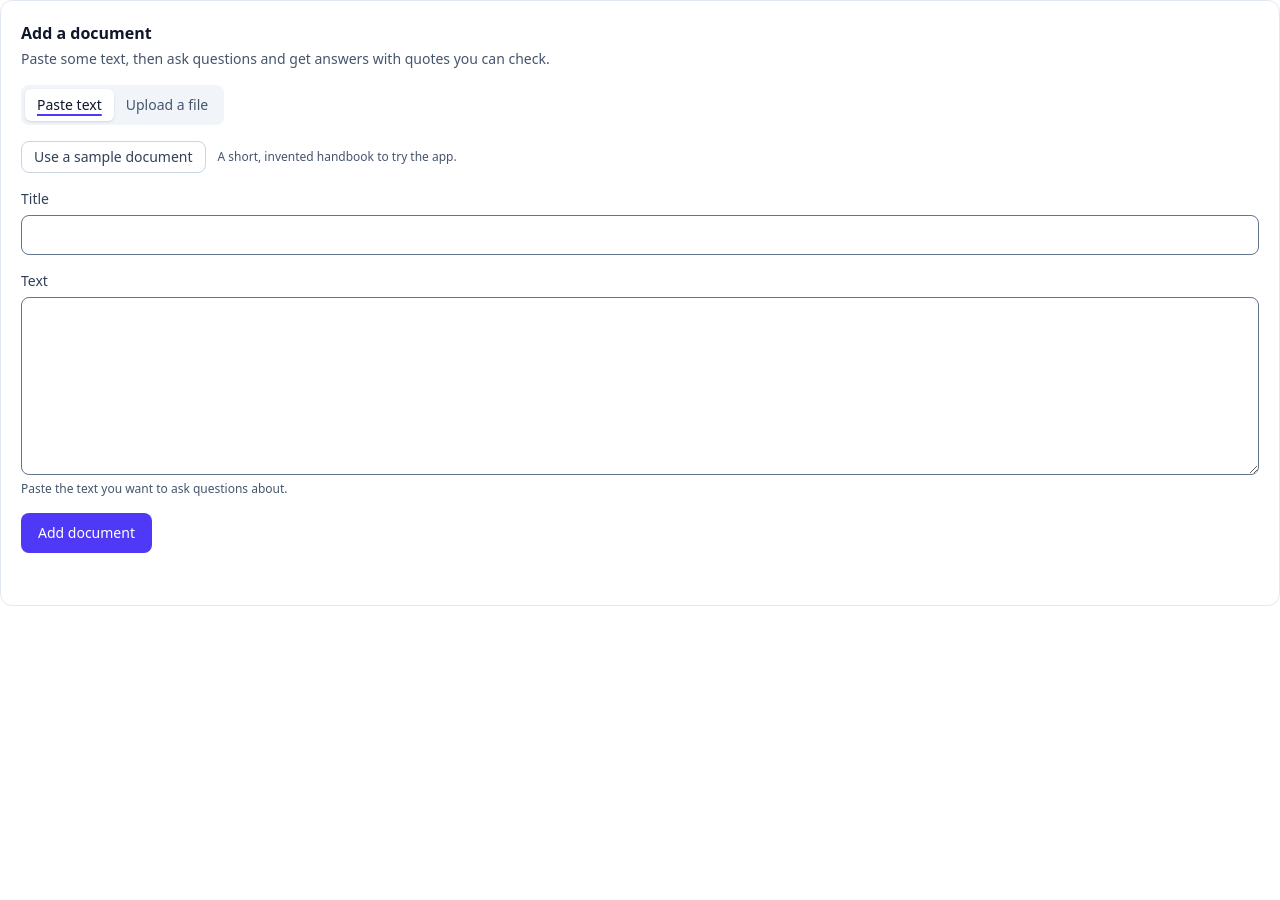
Test case: NewDocumentForm: pasted text › shows the reason when the server turns the text down, and keeps what was typed
Type "Notes" into the field labelled "Title" at (640, 235), box top-left (21, 215), bottom-right (1259, 255)
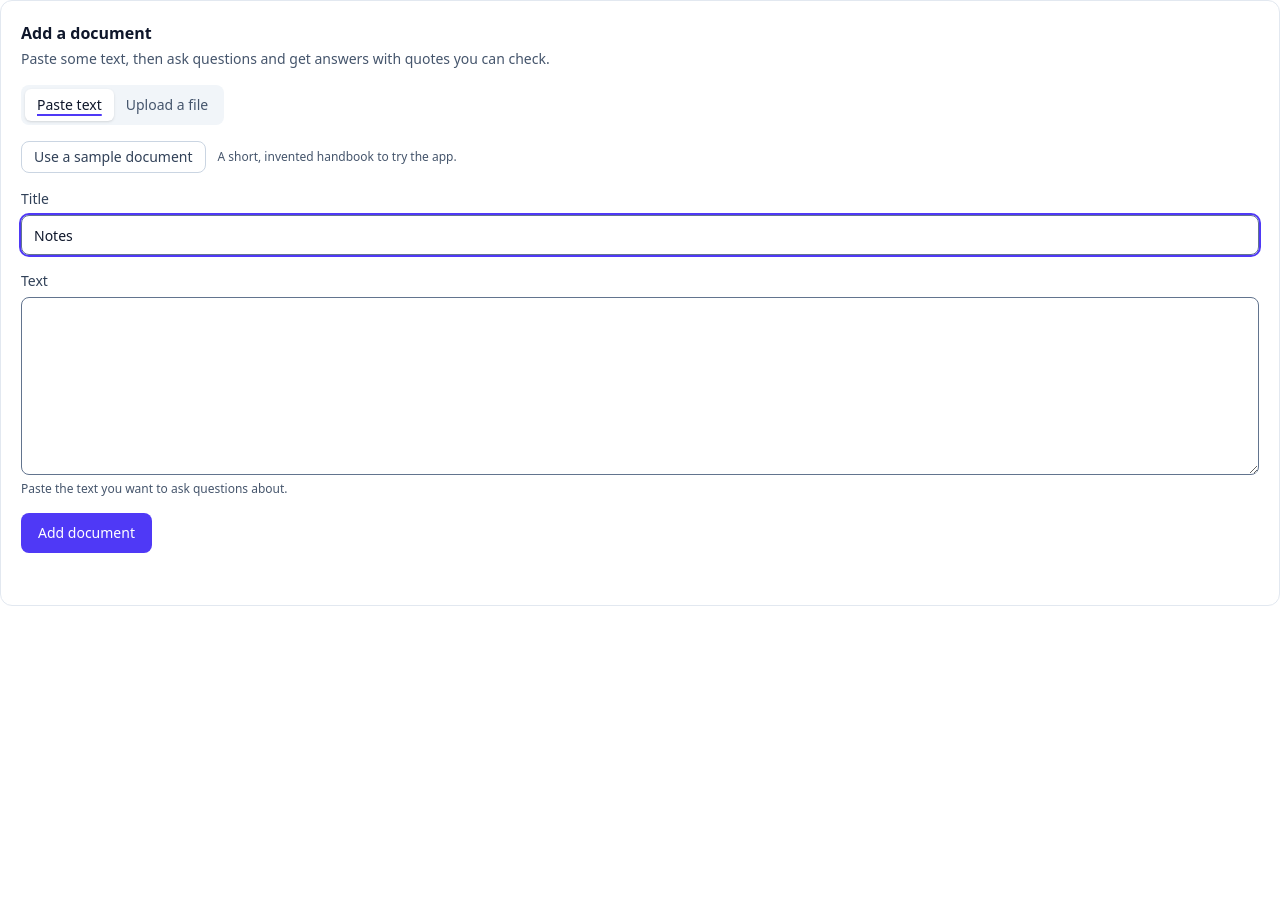
Type "hello" into the text box labelled "Text" at (640, 386), box top-left (21, 297), bottom-right (1259, 475)
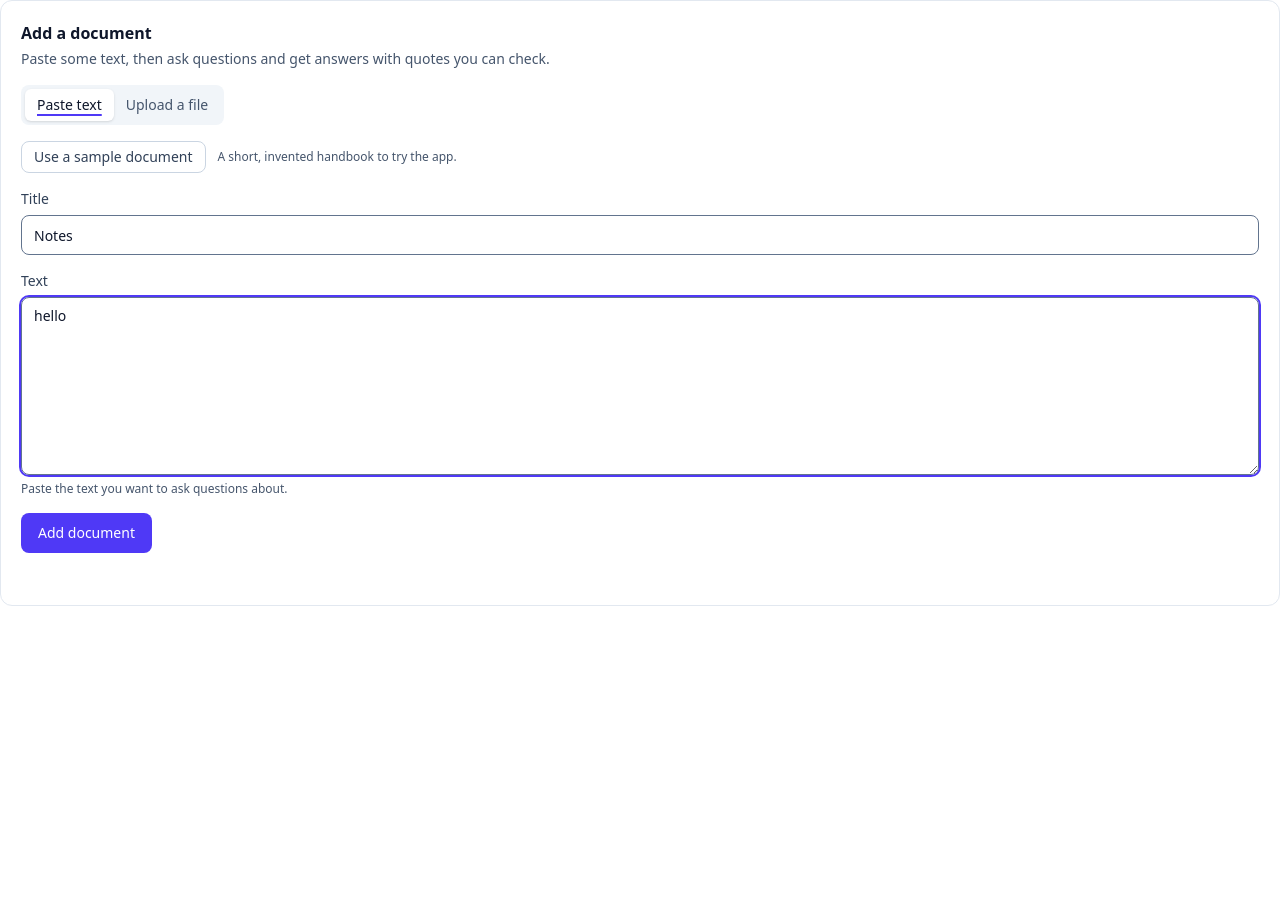
Click the button "Add document" at (86, 533), box top-left (21, 513), bottom-right (152, 553)
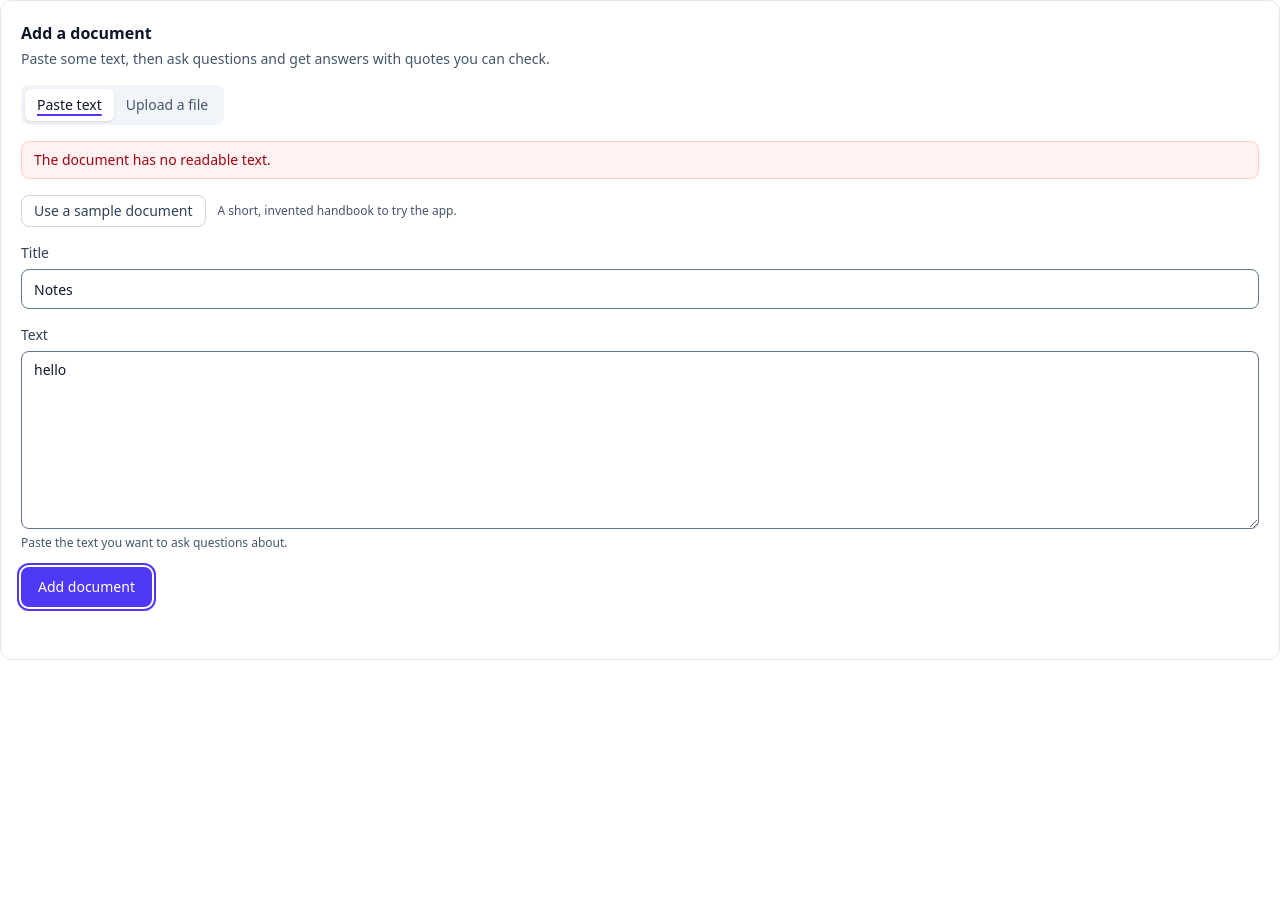
Expected: the message reads "The document has no readable text.", top-left (34, 150), bottom-right (271, 169)
